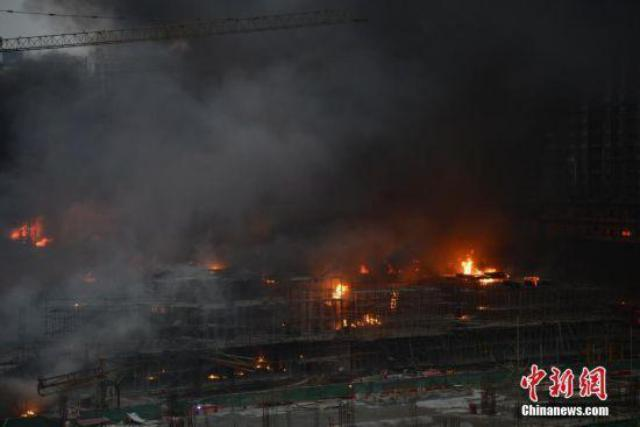fire: (10, 220, 40, 237), (330, 281, 348, 298), (474, 263, 496, 274), (357, 311, 375, 323), (460, 255, 470, 273), (479, 278, 497, 283)
